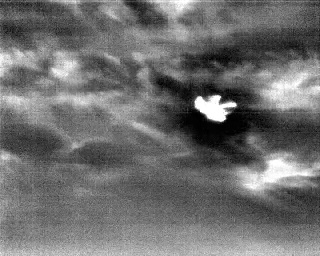HELICOPTER: (192, 88, 241, 128)
